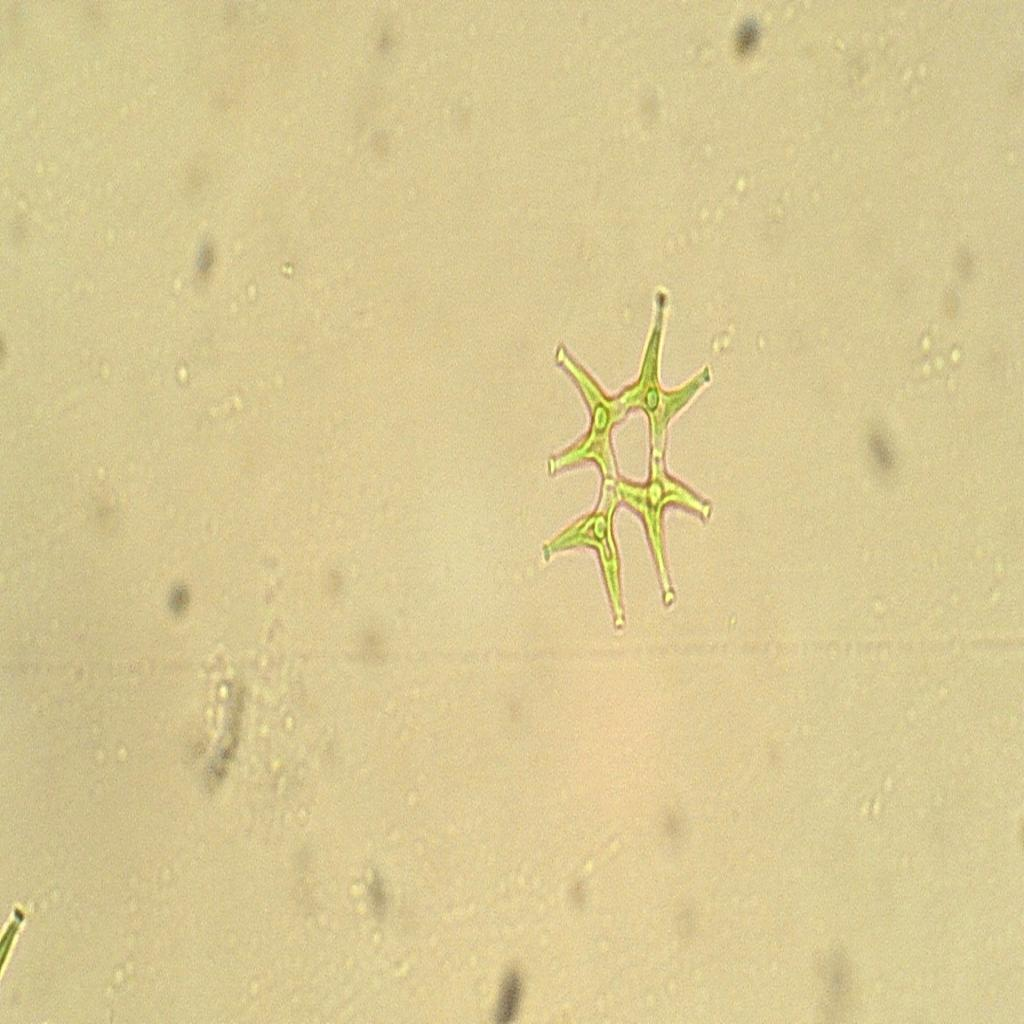Pediastrum_1T: (285, 702, 312, 706)
